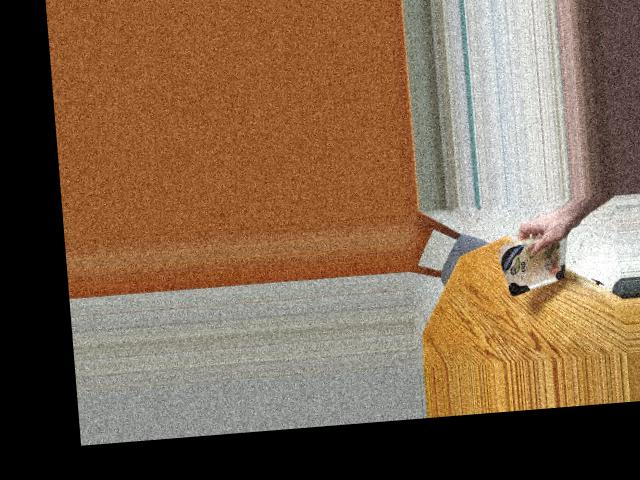cheese: (494, 234, 579, 292)
